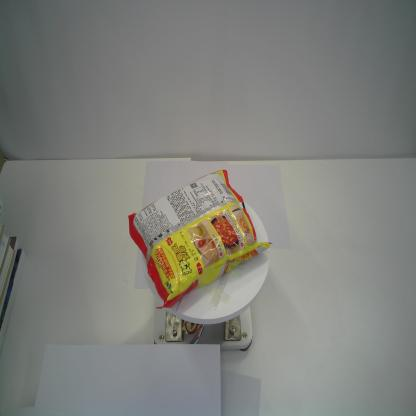Instant Noodles: (127, 167, 272, 311)
